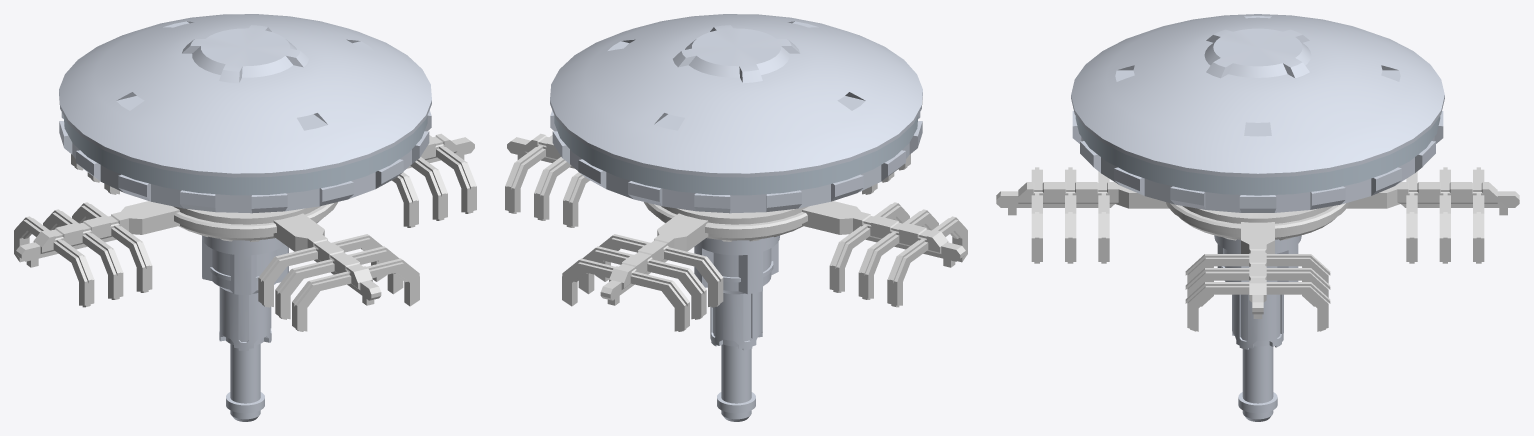
The model's file is space_station_detailed.glb.
3 views of the same model, side by side, from view 1: azimuth 30°, elevation 25°; view 2: azimuth 150°, elevation 25°; view 3: azimuth 270°, elevation 25° (orthographic).
Visible parts, largest first — view 1: StationBase, StationDock, StationRing; view 2: StationBase, StationDock, StationRing; view 3: StationBase, StationDock, StationRing.
Part boxes in pixels (x1,y1,x2,y2): StationBase: (59,14,431,421); StationDock: (14,133,476,331); StationRing: (63,116,427,195); StationBase: (550,14,922,421); StationDock: (505,133,967,331); StationRing: (554,116,918,195); StationBase: (1071,14,1444,421); StationDock: (996,167,1519,331); StationRing: (1075,116,1440,195).
Bounding box in the file's own units: 24 × 18.7 × 24.
